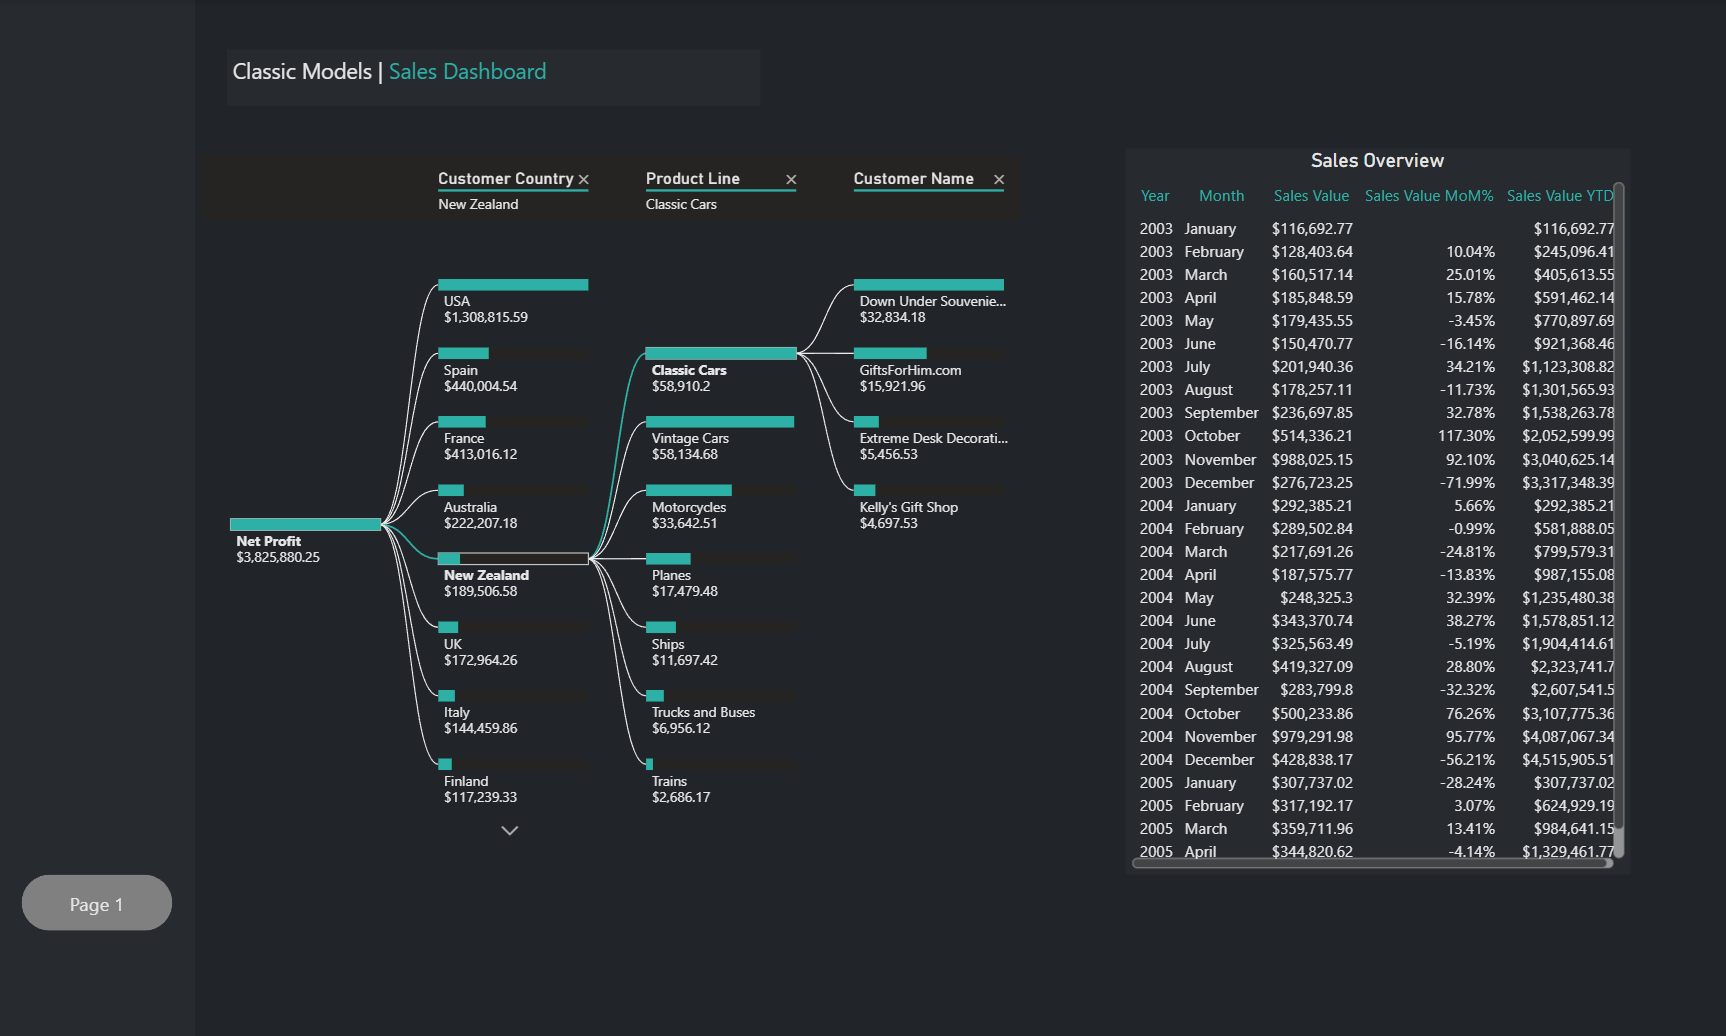

This screenshot's page, from the dashboard's own definition file:
{"tool":"powerbi","page":{"name":"Sales Overview - Page 2","canvas":[1500,900],"ordinal":1},"visuals":[{"type":"shape","box":[0,0,169.8,900.5],"z":0},{"type":"decompositionTreeVisual","fields":{"Analyze":["classicmodels sales_data_for_power_bi.Net Profit"],"ExplainBy":["classicmodels sales_data_for_power_bi.customer_country","classicmodels sales_data_for_power_bi.productLine","classicmodels sales_data_for_power_bi.customerName"]},"box":[170.7,128.6,719.3,628.4],"z":1000},{"type":"textbox","box":[197.3,43.2,462.2,48.8],"z":2000},{"type":"tableEx","title":"Sales Overview","fields":{"Values":["classicmodels sales_data_for_power_bi.orderdate.Variation.Date Hierarchy.Year","classicmodels sales_data_for_power_bi.orderdate.Variation.Date Hierarchy.Month","Sum(classicmodels sales_data_for_power_bi.sales_value)","classicmodels sales_data_for_power_bi.Sum of sales_value MoM%","classicmodels sales_data_for_power_bi.sales_value YTD"]},"box":[975.4,128.6,436.7,628.4],"z":3000},{"type":"actionButton","box":[20,757,130.8,48.8],"z":3001}]}

Visuals, with their boxes on the page's 1500x900 design canvas (x1, y1, x2, y2). These are canvas units, not pixel positions in the 1726x1036 screenshot, which may show the page scaled, cropped or inside an application window:
shape: <bbox>0, 0, 170, 900</bbox>
decompositionTreeVisual - classicmodels sales_data_for_power_bi.Net Profit x classicmodels sales_data_for_power_bi.customer_country: <bbox>171, 129, 890, 757</bbox>
textbox: <bbox>197, 43, 660, 92</bbox>
"Sales Overview" tableEx: <bbox>975, 129, 1412, 757</bbox>
actionButton: <bbox>20, 757, 151, 806</bbox>
